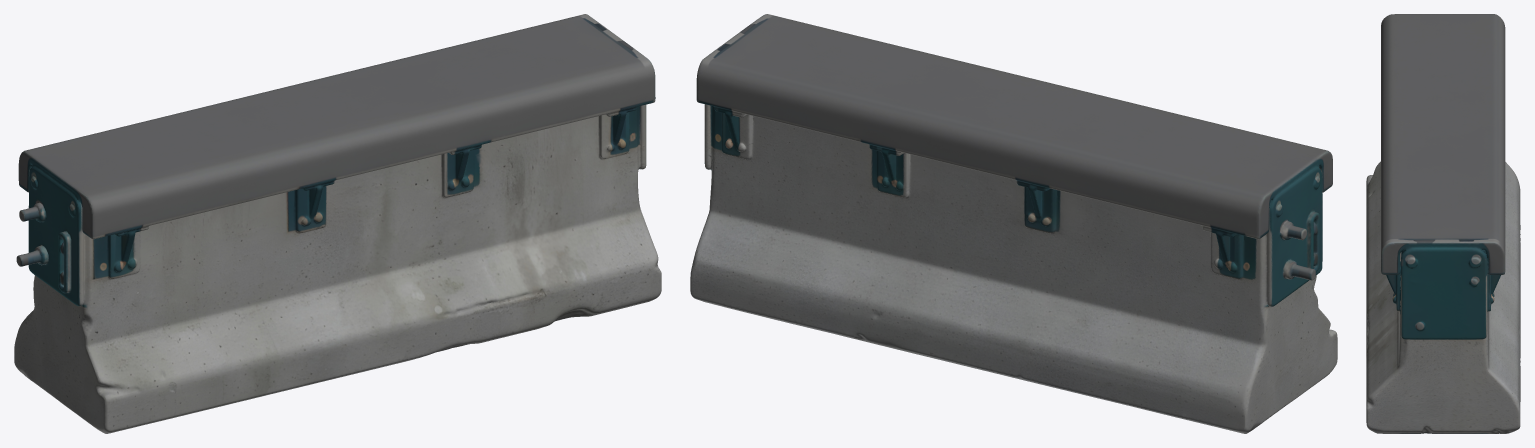
Rendered from broad_raised_ledge_coping.glb.
The picture shows the model from 3 angles, left to right: view 1: azimuth 30°, elevation 25°; view 2: azimuth 150°, elevation 25°; view 3: azimuth 270°, elevation 25°; orthographic projection. The views are drawn at different scales.
Visible parts, largest first — view 1: tripo_node_0d995d3e-ad8d-4787-b195-97c59d50c9df; view 2: tripo_node_0d995d3e-ad8d-4787-b195-97c59d50c9df; view 3: tripo_node_0d995d3e-ad8d-4787-b195-97c59d50c9df.
Part boxes in pixels (box(x1,y1,x2,y2)): tripo_node_0d995d3e-ad8d-4787-b195-97c59d50c9df: box(14, 14, 661, 433); tripo_node_0d995d3e-ad8d-4787-b195-97c59d50c9df: box(690, 14, 1337, 433); tripo_node_0d995d3e-ad8d-4787-b195-97c59d50c9df: box(1366, 14, 1520, 433).
Size of the model in its own units: 1 by 0.376 by 0.2694.
Materials: 1 (1 with a texture image).
